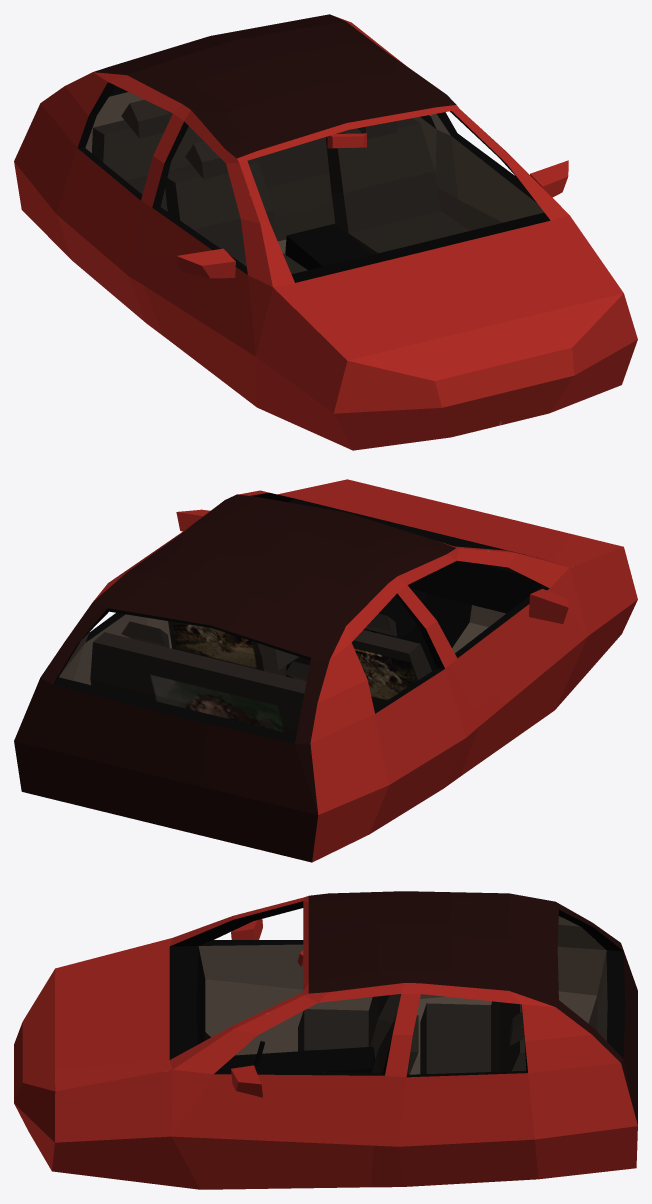
File: Car.fbx
The picture shows the model from 3 angles, top to bottom: view 1: azimuth 30°, elevation 25°; view 2: azimuth 150°, elevation 25°; view 3: azimuth 270°, elevation 25°; orthographic projection. The views are drawn at different scales.
Visible parts, largest first — view 1: polySurface19; view 2: polySurface19; view 3: polySurface19.
Boxes of the visible parts, x1,y1,x2,y2 form: polySurface19: [14, 14, 637, 450]; polySurface19: [14, 479, 637, 862]; polySurface19: [14, 891, 637, 1189].
Bounding box in the file's own units: 52.81 × 27.7 × 79.79.
